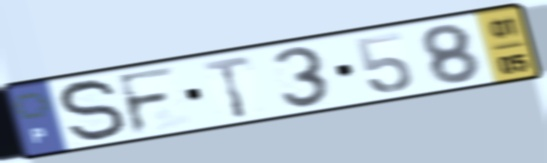3: (270, 45, 335, 110)
5: (351, 29, 415, 95)
8: (418, 21, 487, 87)
F: (113, 64, 180, 138)
S: (55, 77, 130, 146)
T: (199, 53, 256, 121)
